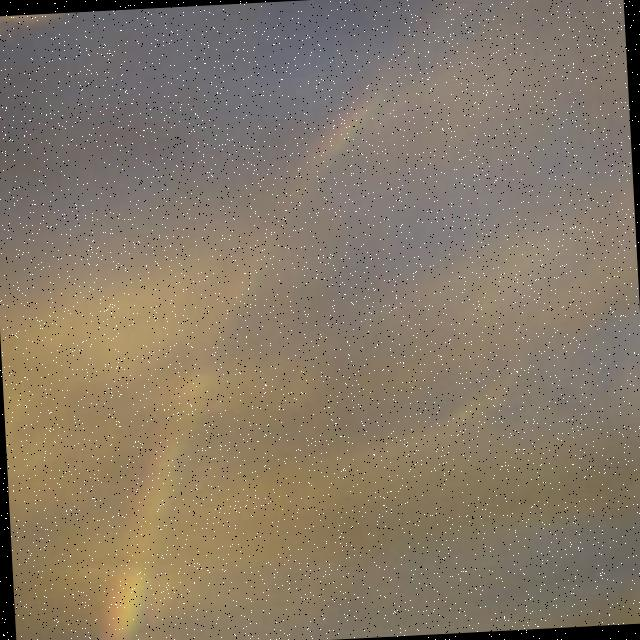As: (1, 3, 640, 614)
